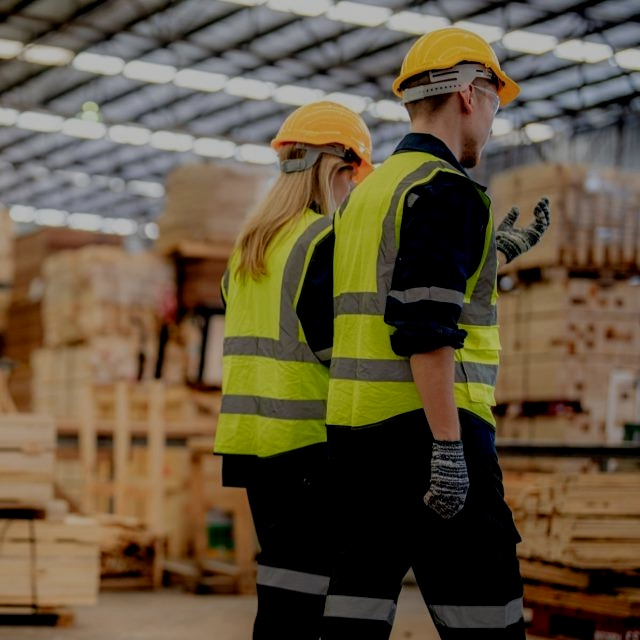Con_Chaleco: (326, 153, 498, 431), (216, 202, 333, 456)
